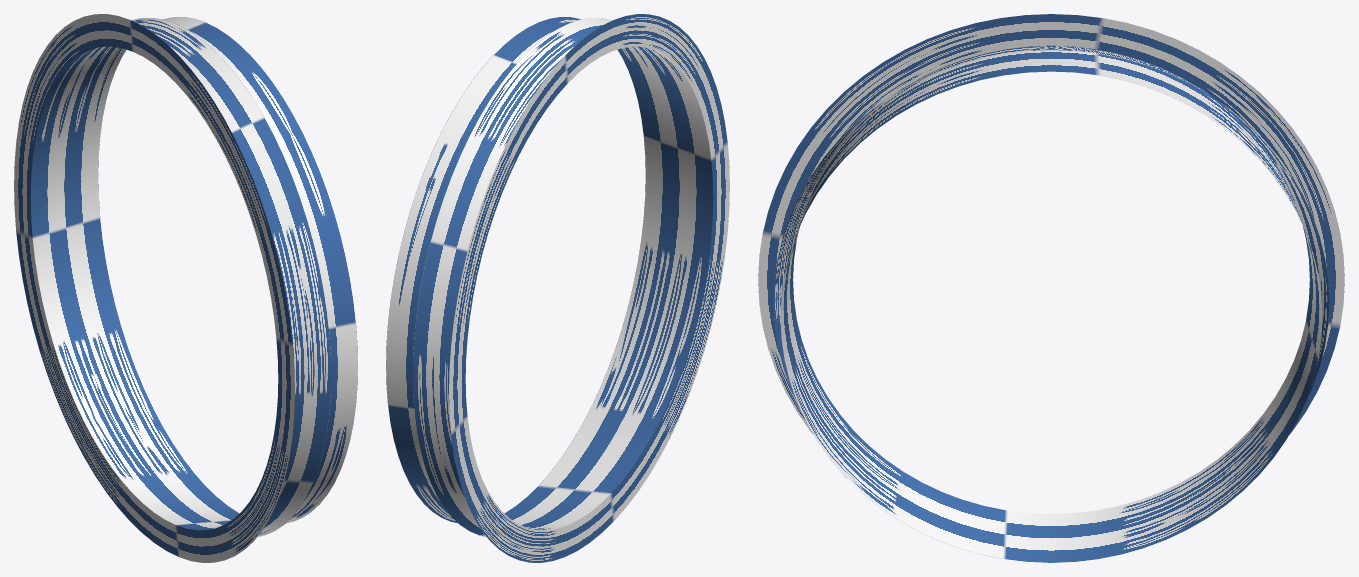
The model's file is RuiDad_Cylinder1.fbx.
3 renders of one model, left to right at view 1: azimuth 30°, elevation 25°; view 2: azimuth 150°, elevation 25°; view 3: azimuth 270°, elevation 25°, orthographic. The views are drawn at different scales.
Parts seen in each view (by area): view 1: SM_e_Plc_P1009_Cylinder001; view 2: SM_e_Plc_P1009_Cylinder001; view 3: SM_e_Plc_P1009_Cylinder001.
Part boxes in pixels (<box>): SM_e_Plc_P1009_Cylinder001: <box>14,14,357,562</box>; SM_e_Plc_P1009_Cylinder001: <box>386,14,729,562</box>; SM_e_Plc_P1009_Cylinder001: <box>758,14,1344,562</box>.
Bounding box in the file's own units: 20.66 × 137 × 137.
